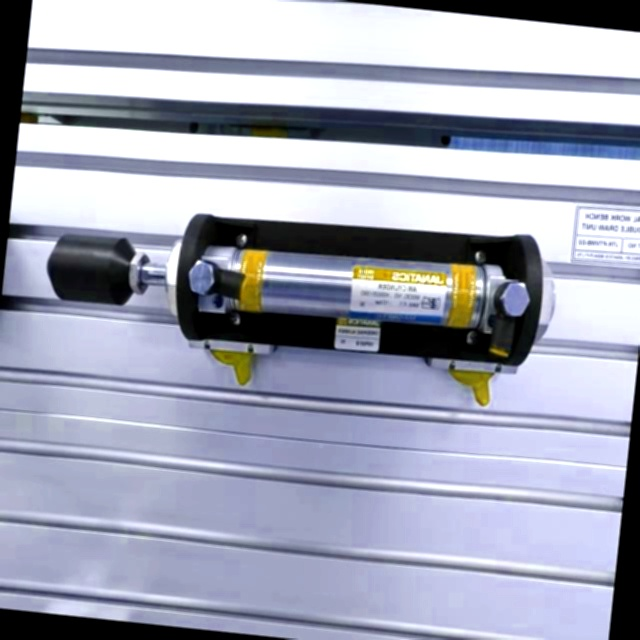double acting pneumatic cylinder: (29, 173, 567, 428)
